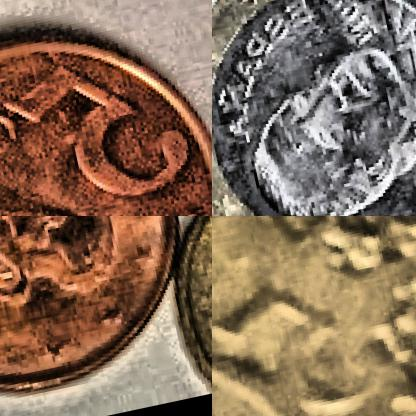coin: (0, 2, 211, 215), (212, 0, 415, 215), (0, 216, 211, 415), (212, 216, 415, 415)
